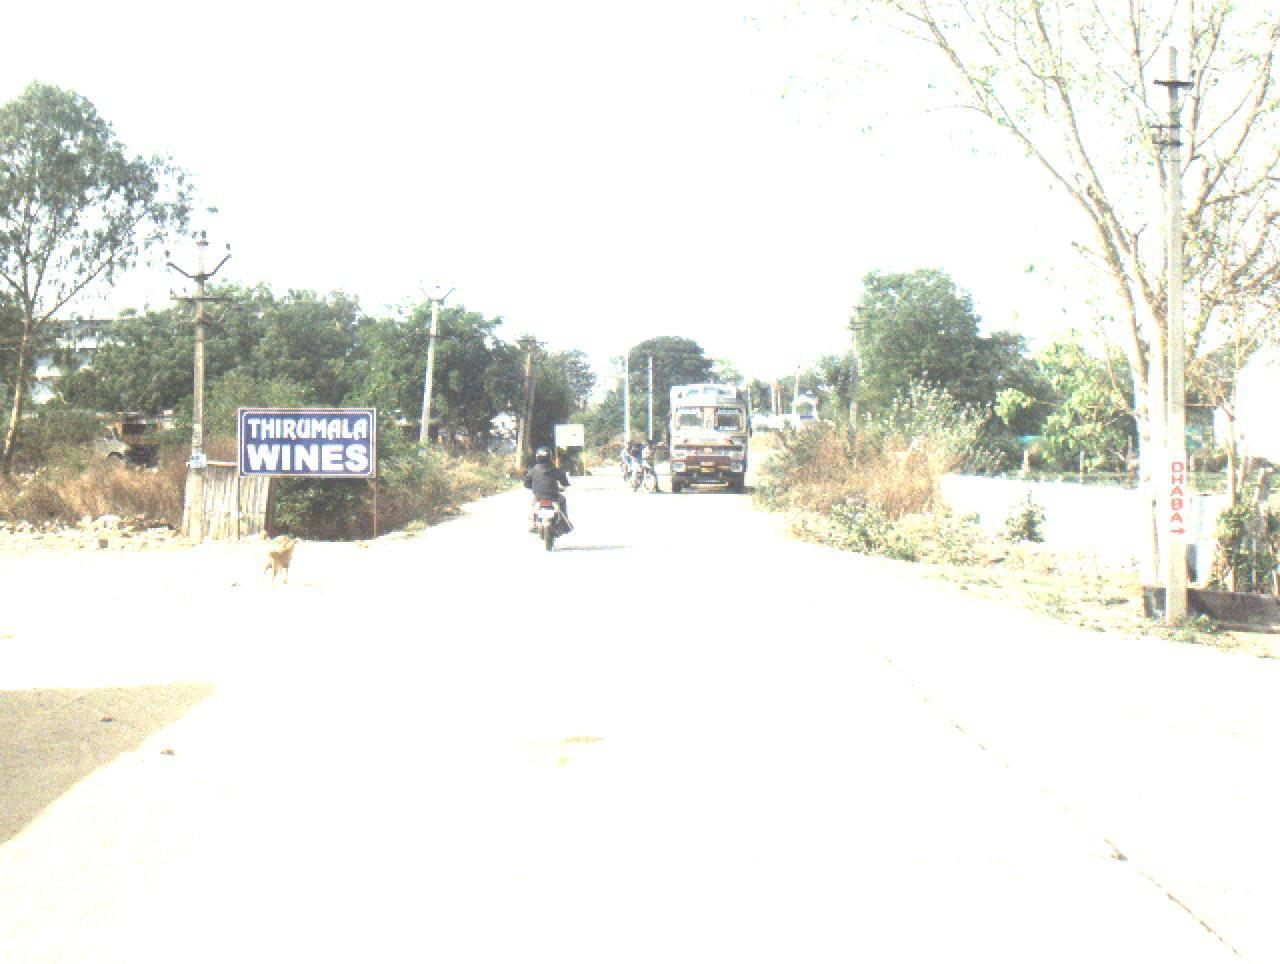off: (0, 0, 1267, 964)
